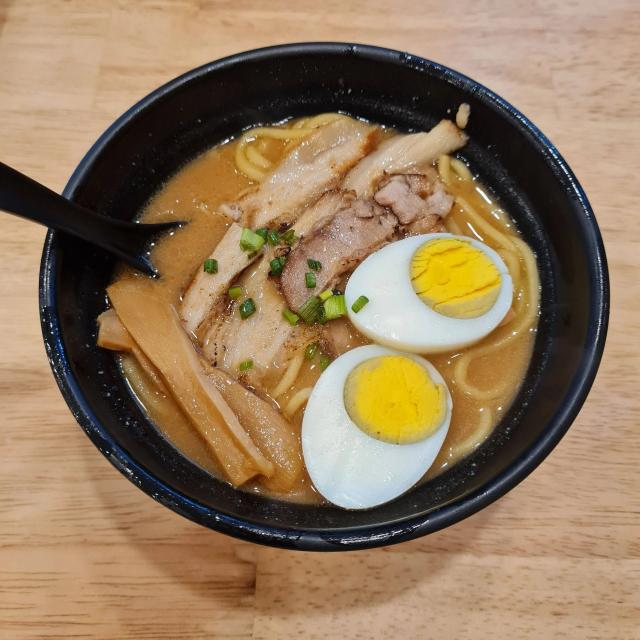carb: (433, 153, 533, 462), (236, 116, 346, 184), (269, 353, 313, 415)
meat: (181, 121, 467, 388), (304, 342, 451, 509), (347, 236, 515, 354)
vegetable: (101, 289, 305, 494)
